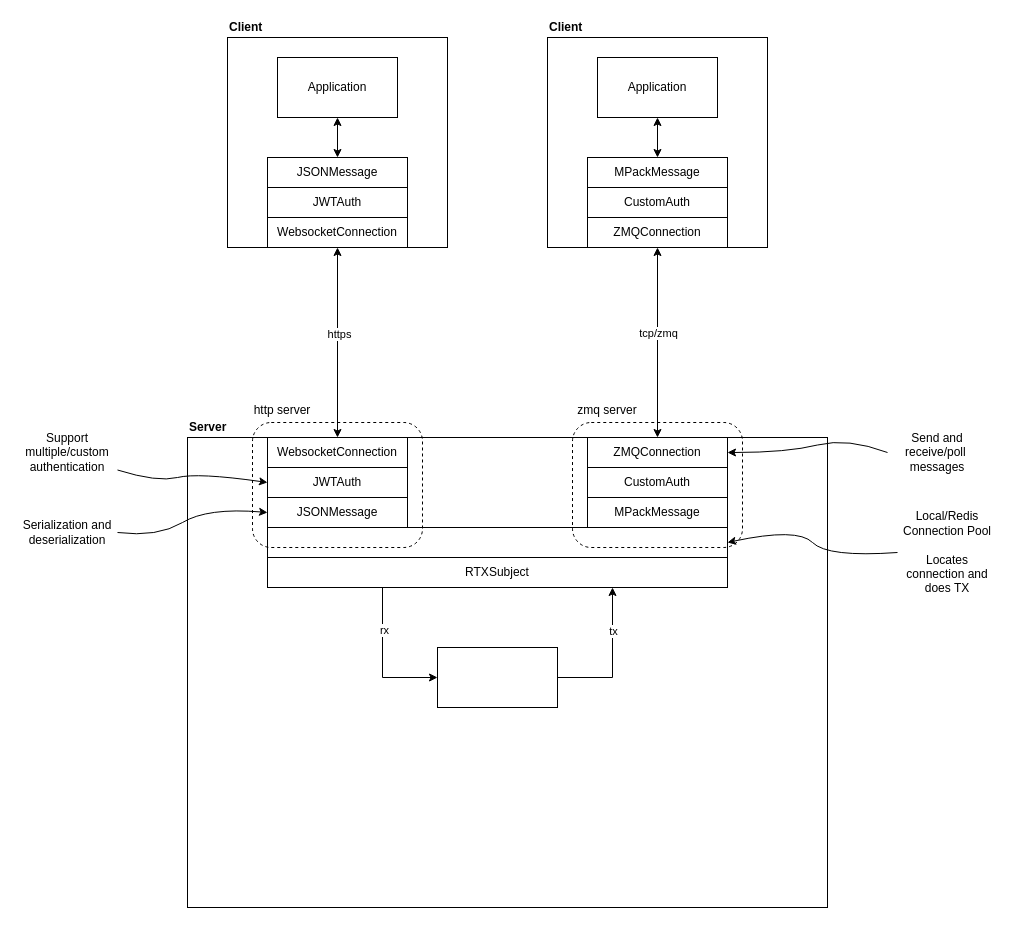
This 1014x925 diagram has some shape labels left out. The shapes that lost their labels are listed below. From the top down, each one's centre as x and y in pixels, then its label:
At point 497,542: "Connection Pool".
At point 497,677: "Application/ Handle Message".
